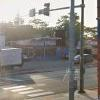Traffic light: (24, 4, 62, 23)
